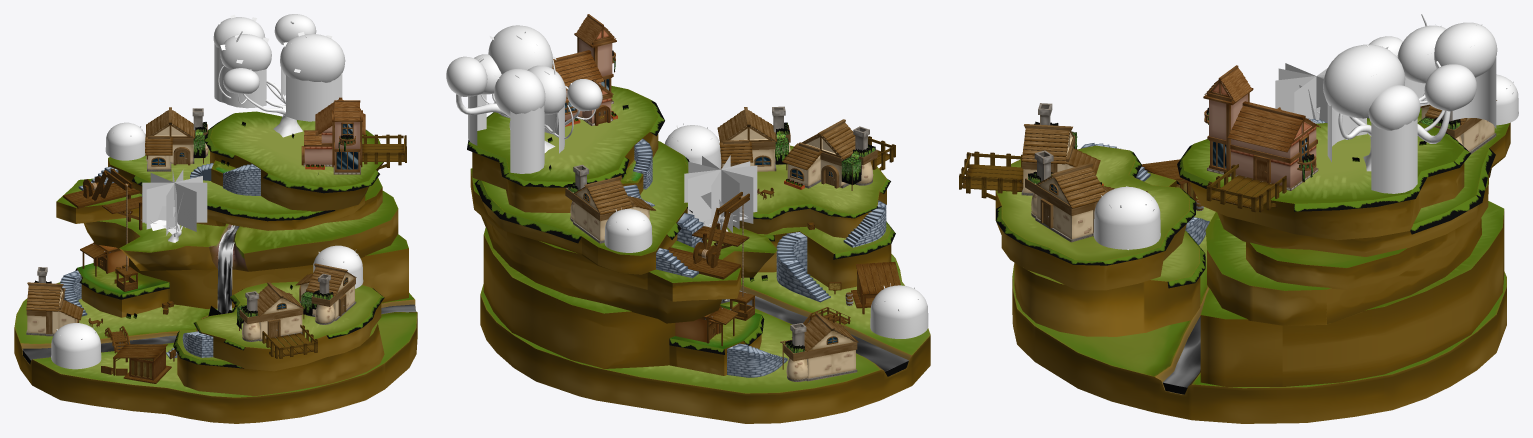
Rendered from River_Island.fbx.
3 views of the same model, side by side, from view 1: azimuth 30°, elevation 25°; view 2: azimuth 150°, elevation 25°; view 3: azimuth 270°, elevation 25° (orthographic). The views are drawn at different scales.
Visible parts, largest first — view 1: MOD2_final; view 2: MOD2_final; view 3: MOD2_final.
Boxes of the visible parts, x1,y1,x2,y2 form: MOD2_final: (14,14,417,423); MOD2_final: (446,14,930,423); MOD2_final: (959,14,1518,423).
Size of the model in its own units: 2038 by 1364 by 1994.
Materials: 34 (31 with a texture image).
